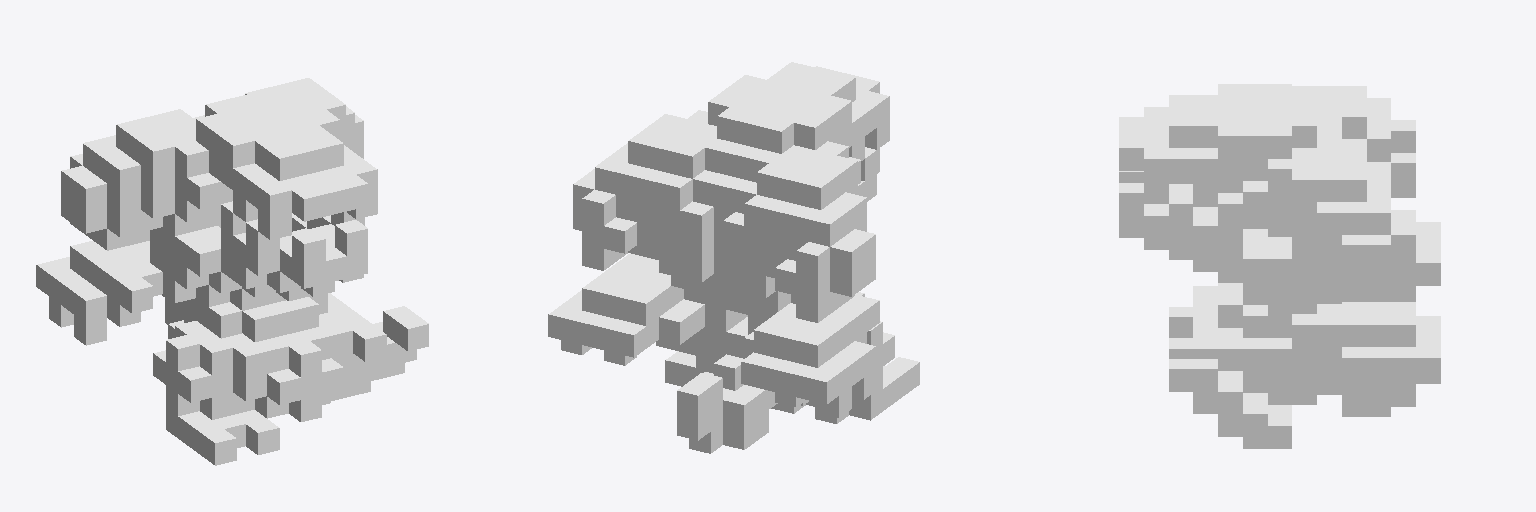
File: FygarWalk2Cardinal.obj
The picture shows the model from 3 angles: view 1: azimuth 30°, elevation 25°; view 2: azimuth 150°, elevation 25°; view 3: azimuth 270°, elevation 25°; orthographic projection.
Visible parts, largest first — view 1: Fygar; view 2: Fygar; view 3: Fygar.
Boxes of the visible parts, x1=… form: Fygar: x1=36, y1=78, x2=428, y2=465; Fygar: x1=548, y1=62, x2=919, y2=453; Fygar: x1=1119, y1=84, x2=1440, y2=448.
Bounding box in the file's own units: 1.3 × 1.3 × 1.3.